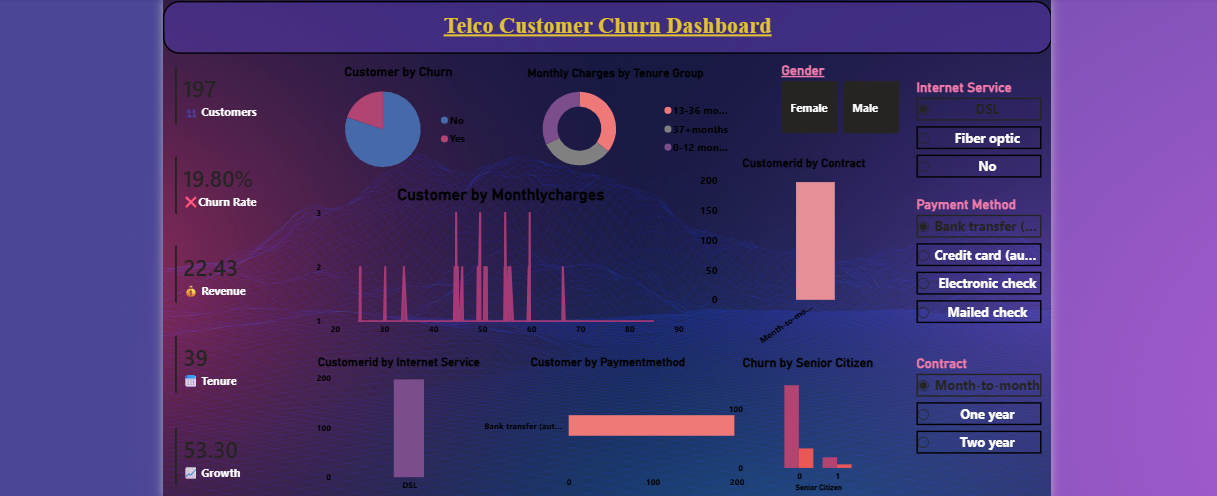

What the dashboard file says about the page in this screenshot:
{"tool":"powerbi","page":{"name":"Page 1","canvas":[1280,720],"ordinal":0},"visuals":[{"type":"pieChart","title":"Customer by Churn","fields":{"Category":["Telco_Customer.churn"],"Y":["CountNonNull(Telco_Customer.customerid)"]},"box":[229,95,220.3,167],"z":0},{"type":"cardVisual","fields":{"Data":["Telco_Customer.Total Churn Customer"]},"box":[0,468,203,119.5],"z":1000},{"type":"cardVisual","fields":{"Data":["Telco_Customer.Churn Rate"]},"box":[0,210.2,203,119.5],"z":2000},{"type":"textbox","box":[0,4.4,1280.5,76.1],"z":3000},{"type":"advancedSlicerVisual","title":"Gender","fields":{"Values":["Telco_Customer.gender"]},"box":[885.6,92.2,181.4,108],"z":4000},{"type":"clusteredColumnChart","title":"Customerid by Contract","fields":{"Category":["Telco_Customer.contract"],"Y":["CountNonNull(Telco_Customer.customerid)"]},"box":[767.5,227.5,311,285.1],"z":5000},{"type":"barChart","title":"Customer by Paymentmethod","fields":{"Category":["Telco_Customer.paymentmethod"],"Y":["CountNonNull(Telco_Customer.customerid)"]},"box":[439.2,514.1,403.2,201.6],"z":6000},{"type":"columnChart","title":"Customerid by Internet Service","fields":{"Category":["Telco_Customer.internetservice"],"Y":["CountNonNull(Telco_Customer.customerid)"]},"box":[216,514.1,247.7,205.9],"z":7000},{"type":"lineChart","title":"Customer by Monthlycharges","fields":{"Category":["Telco_Customer.monthlycharges"],"Y":["Count(Telco_Customer.customerid)"]},"box":[216,269.3,541.4,226.1],"z":8000},{"type":"donutChart","title":"Monthly Charges by Tenure Group","fields":{"Category":["Telco_Customer.Tenure Group"],"Y":["Telco_Customer.Avg Monthly Charges"]},"box":[473.8,97.9,355.7,161.3],"z":9000},{"type":"listSlicer","title":"Internet Service","fields":{"Values":["Telco_Customer.internetservice"]},"box":[1080,116.6,190.1,152.6],"z":10000},{"type":"cardVisual","fields":{"Data":["Telco_Customer.Avg Monthly Charges"]},"box":[0,600.5,203,119.5],"z":11000},{"type":"cardVisual","fields":{"Data":["Telco_Customer.Average Tenure"]},"box":[0,338.4,203,119.5],"z":12000},{"type":"cardVisual","fields":{"Data":["Telco_Customer.Total Customer"]},"box":[0,80.6,203,119.5],"z":13000},{"type":"listSlicer","title":"Payment Method","fields":{"Values":["Telco_Customer.paymentmethod"]},"box":[1080,285.1,190.1,194.4],"z":14000},{"type":"listSlicer","title":"Contract","fields":{"Values":["Telco_Customer.contract"]},"box":[1080,514.1,190.1,194.4],"z":15000},{"type":"clusteredColumnChart","title":"Churn by Senior Citizen","fields":{"Category":["Telco_Customer.seniorcitizen"],"Y":["CountNonNull(Telco_Customer.customerid)"],"Series":["Telco_Customer.churn"]},"box":[809.3,514.1,239,201.6],"z":16000}]}

Visuals, with their boxes on the page's 1280x720 design canvas (x1, y1, x2, y2). These are canvas units, not pixel positions in the 1217x496 screenshot, which may show the page scaled, cropped or inside an application window:
"Customer by Churn" pieChart: {"left": 229, "top": 95, "right": 449, "bottom": 262}
cardVisual - Telco_Customer.Total Churn Customer: {"left": 0, "top": 468, "right": 203, "bottom": 588}
cardVisual - Telco_Customer.Churn Rate: {"left": 0, "top": 210, "right": 203, "bottom": 330}
textbox: {"left": 0, "top": 4, "right": 1280, "bottom": 80}
"Gender" advancedSlicerVisual: {"left": 886, "top": 92, "right": 1067, "bottom": 200}
"Customerid by Contract" clusteredColumnChart: {"left": 768, "top": 228, "right": 1078, "bottom": 513}
"Customer by Paymentmethod" barChart: {"left": 439, "top": 514, "right": 842, "bottom": 716}
"Customerid by Internet Service" columnChart: {"left": 216, "top": 514, "right": 464, "bottom": 720}
"Customer by Monthlycharges" lineChart: {"left": 216, "top": 269, "right": 757, "bottom": 495}
"Monthly Charges by Tenure Group" donutChart: {"left": 474, "top": 98, "right": 830, "bottom": 259}
"Internet Service" listSlicer: {"left": 1080, "top": 117, "right": 1270, "bottom": 269}
cardVisual - Telco_Customer.Avg Monthly Charges: {"left": 0, "top": 600, "right": 203, "bottom": 720}
cardVisual - Telco_Customer.Average Tenure: {"left": 0, "top": 338, "right": 203, "bottom": 458}
cardVisual - Telco_Customer.Total Customer: {"left": 0, "top": 81, "right": 203, "bottom": 200}
"Payment Method" listSlicer: {"left": 1080, "top": 285, "right": 1270, "bottom": 480}
"Contract" listSlicer: {"left": 1080, "top": 514, "right": 1270, "bottom": 708}
"Churn by Senior Citizen" clusteredColumnChart: {"left": 809, "top": 514, "right": 1048, "bottom": 716}
